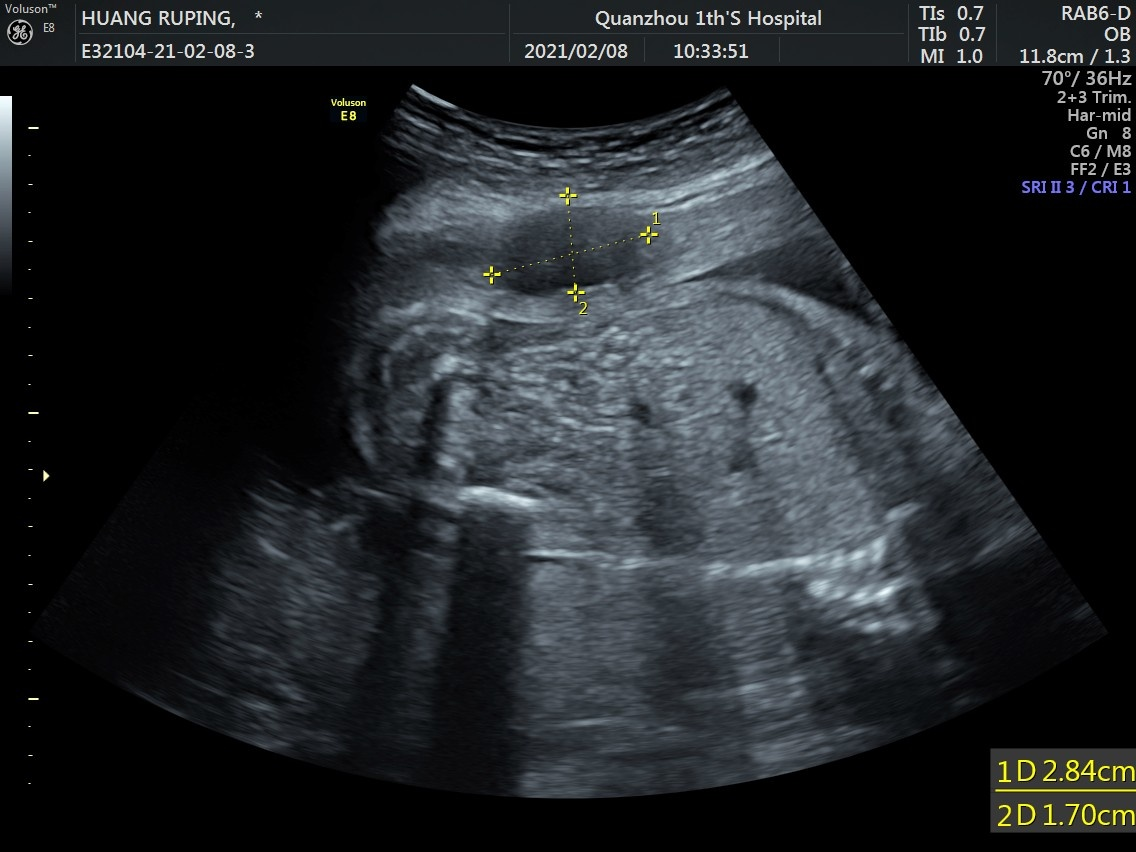肌瘤: (501, 218, 641, 287)
